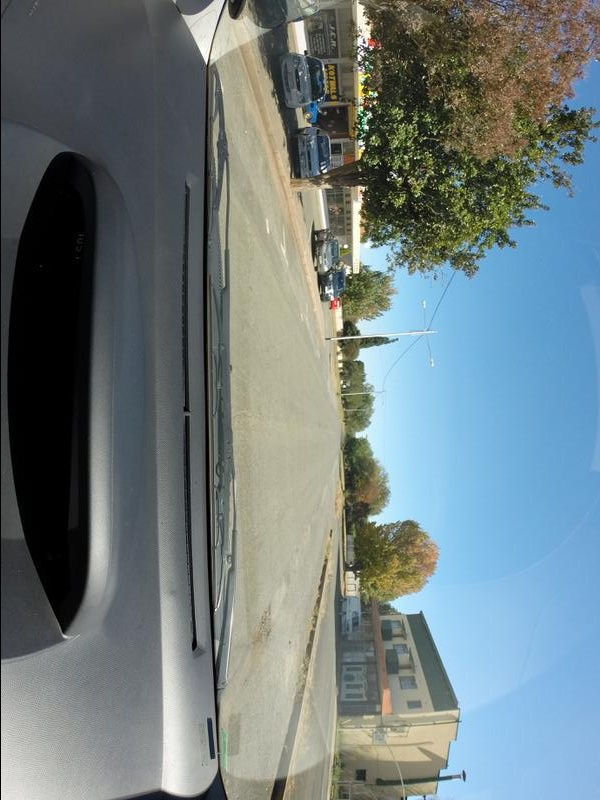pothole: (248, 599, 276, 648)
